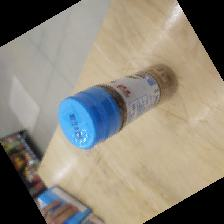TayNinh_blue: (53, 62, 182, 151)
